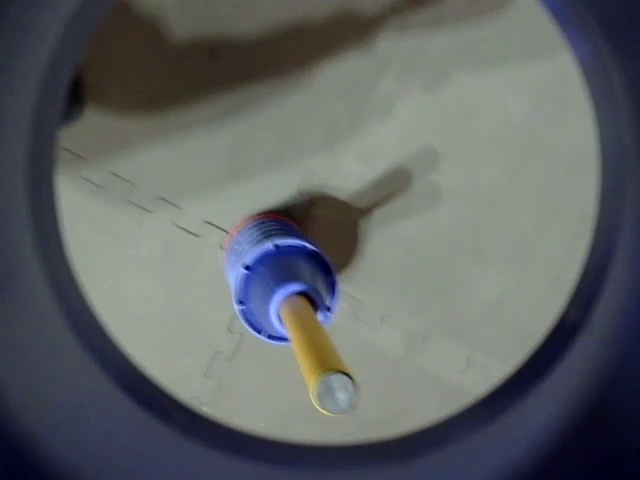tip: (299, 346, 366, 424)
